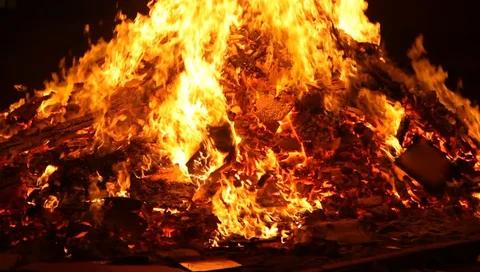fire: (19, 0, 479, 248)
